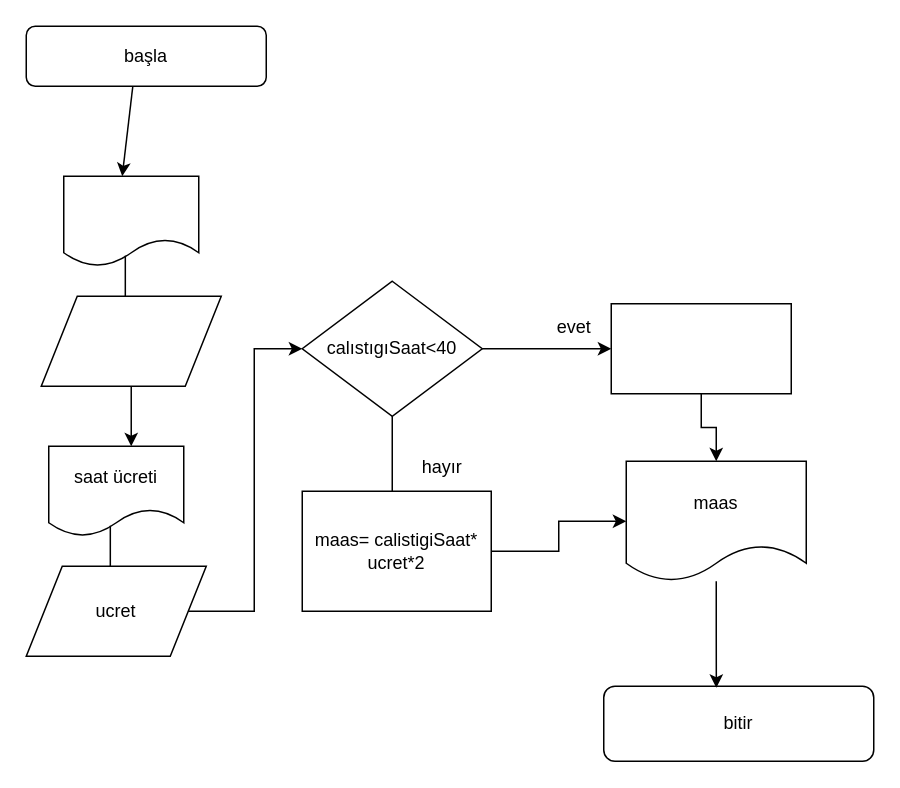
The diagram is 900 pixels wide and 788 high, and some of its shapes have lost their labels. Each missing label, with the centre of its shape:
calıstıgıSaat: the point at 130,340
maas= calistigiSaat* ucret: the point at 700,348
çalıştığı saat: the point at 130,220
